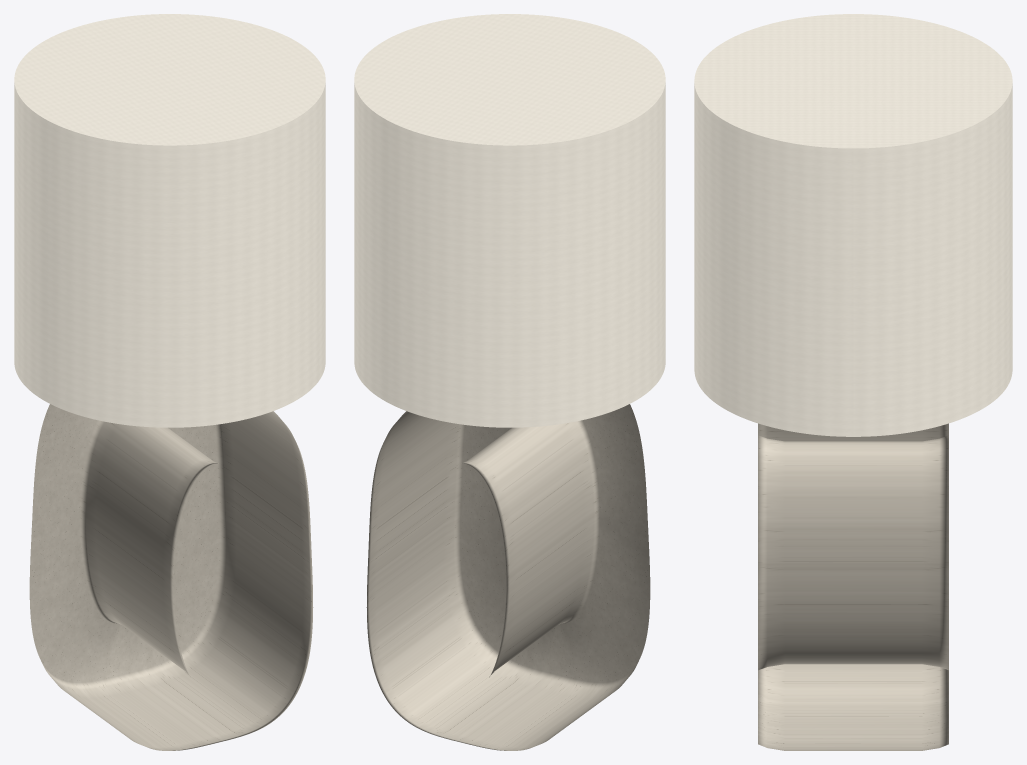
The model's file is modern_table_lamp.glb.
3 renders of one model, left to right at view 1: azimuth 30°, elevation 25°; view 2: azimuth 150°, elevation 25°; view 3: azimuth 270°, elevation 25°, orthographic. The views are drawn at different scales.
Parts seen in each view (by area): view 1: Ivory Linen Drum Shade, Organic Pierced Ceramic Base; view 2: Ivory Linen Drum Shade, Organic Pierced Ceramic Base; view 3: Ivory Linen Drum Shade, Organic Pierced Ceramic Base.
Part boxes in pixels (left/top/right/bottom): Ivory Linen Drum Shade: left=14, top=14, right=325, bottom=427; Organic Pierced Ceramic Base: left=29, top=404, right=313, bottom=750; Ivory Linen Drum Shade: left=354, top=14, right=665, bottom=427; Organic Pierced Ceramic Base: left=366, top=404, right=650, bottom=750; Ivory Linen Drum Shade: left=694, top=14, right=1012, bottom=436; Organic Pierced Ceramic Base: left=758, top=423, right=948, bottom=750.
Bounding box in the file's own units: 0.2 × 0.45 × 0.2.
3 materials, 2 textured.
